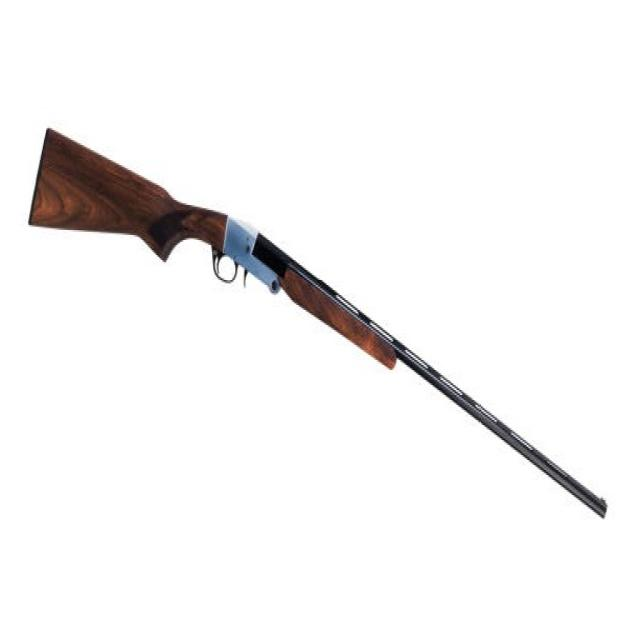rifle: (26, 119, 614, 524)
